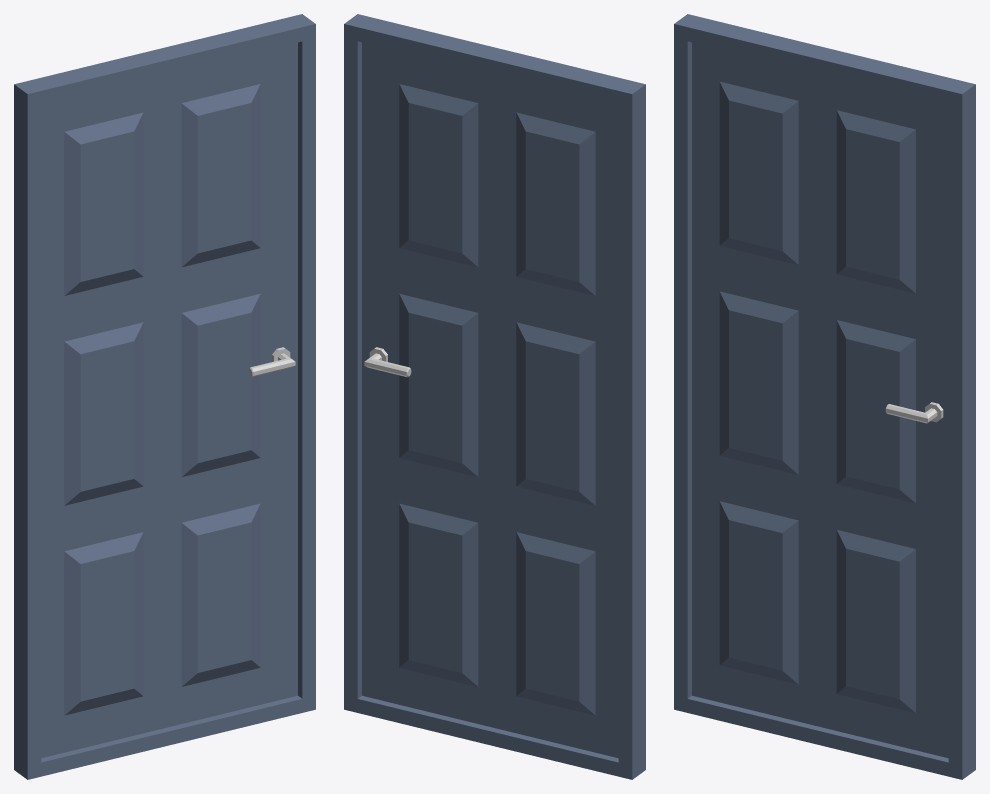
The model's file is Mesh_Door_A11.fbx.
3 views of the same model, side by side, from view 1: azimuth 30°, elevation 25°; view 2: azimuth 150°, elevation 25°; view 3: azimuth 330°, elevation 25° (orthographic).
Parts seen in each view (by area): view 1: Mesh_Door_A11; view 2: Mesh_Door_A11; view 3: Mesh_Door_A11.
Boxes of the visible parts, bbox=[...] form: Mesh_Door_A11: bbox=[14, 14, 315, 779]; Mesh_Door_A11: bbox=[344, 14, 645, 779]; Mesh_Door_A11: bbox=[674, 14, 975, 779].
Bounding box in the file's own units: 0.9 × 2.05 × 0.1482.
